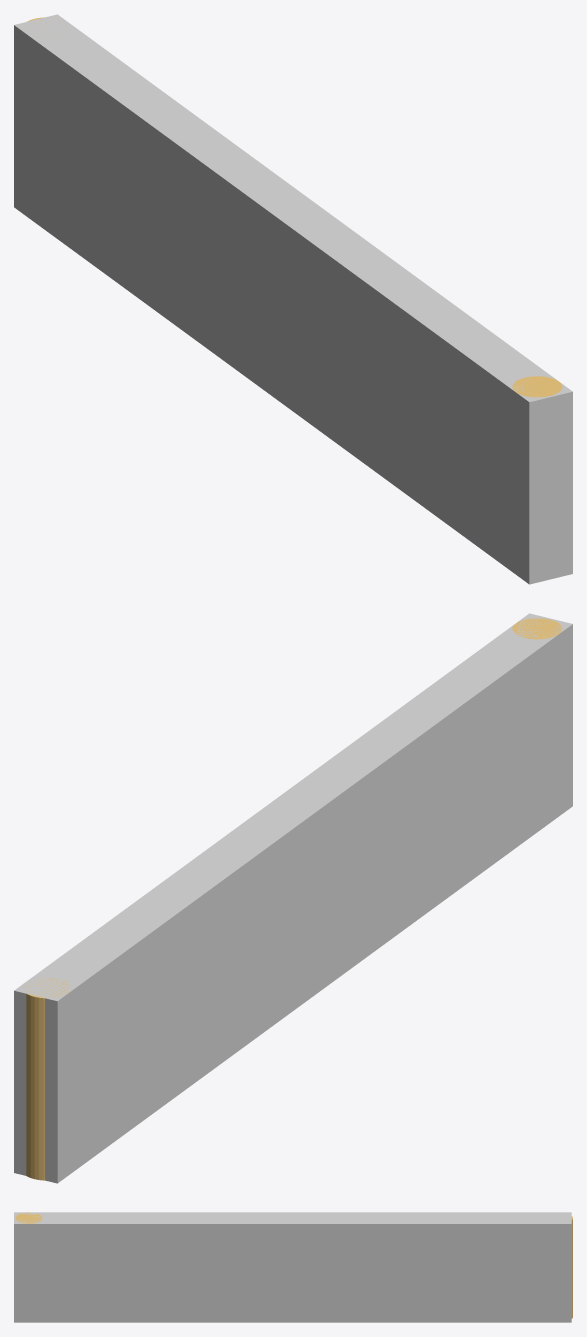
Rendered from fence.gltf.
The picture shows the model from 3 angles, top to bottom: view 1: azimuth 30°, elevation 25°; view 2: azimuth 150°, elevation 25°; view 3: azimuth 270°, elevation 25°; orthographic projection. The views are drawn at different scales.
Parts seen in each view (by area): view 1: COL, 円柱.001; view 2: COL, 円柱.004, 円柱.001; view 3: COL, 円柱.001, 円柱.004.
Part boxes in pixels (x1,y1,x2,y2): COL: (14, 14, 572, 584); 円柱.001: (512, 376, 562, 397); COL: (14, 613, 572, 1183); 円柱.004: (23, 977, 70, 1180); 円柱.001: (512, 618, 562, 639); COL: (14, 1212, 571, 1322); 円柱.001: (15, 1212, 42, 1223); 円柱.004: (571, 1216, 572, 1318).
Size of the model in its own units: 1 by 4 by 20.55.
